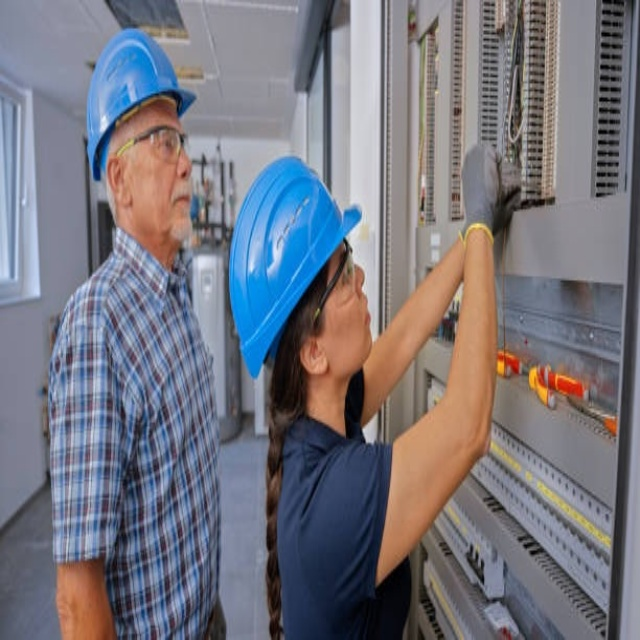Gafas: (308, 238, 352, 332), (113, 124, 189, 164)
Guantes: (460, 142, 523, 246)
Sin_mascara: (162, 175, 197, 236), (358, 293, 378, 358)
